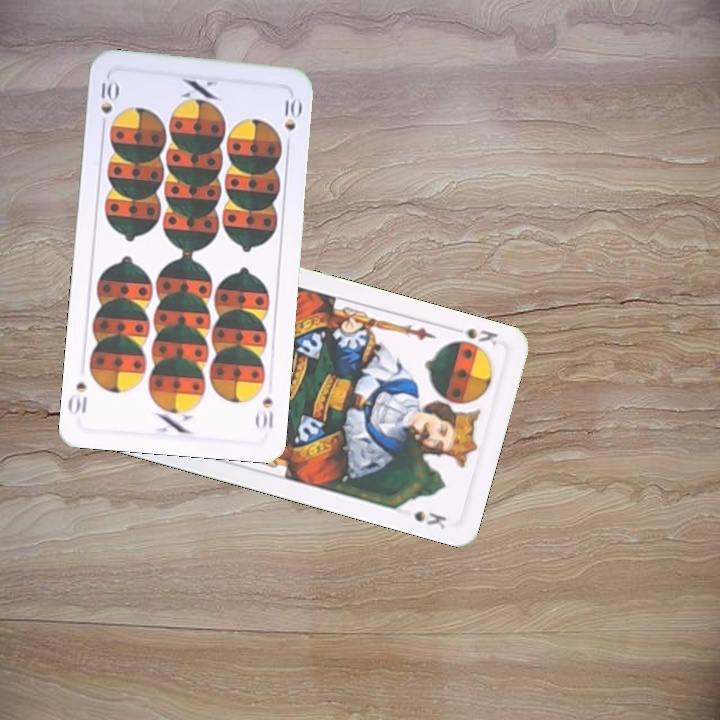S10: (96, 73, 120, 133), (252, 394, 276, 432)
SK: (446, 324, 501, 348)
